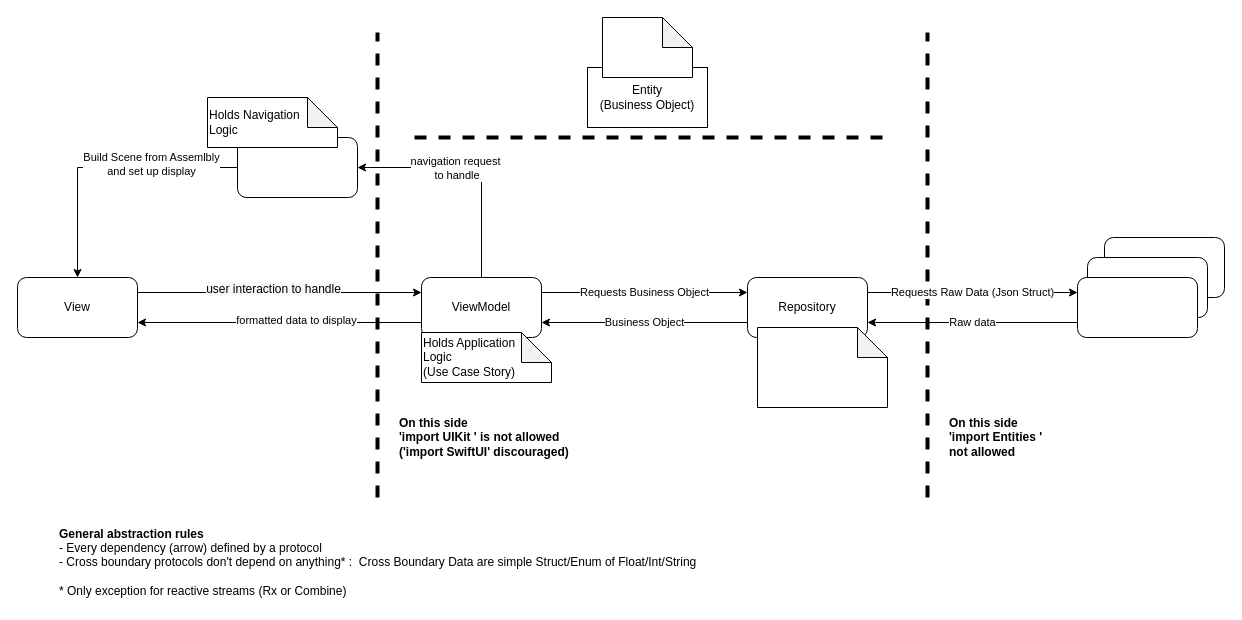
Image size: 1242x620. Some labels were removed from this diagram. The box of each missing label's shape, as (x1, y1, x2, y2) in pixels:
Aggregates data from multiple sources services to build BusinessObjects: (756, 326, 888, 408)
Coordinator: (236, 136, 358, 198)
DataSource: (1076, 276, 1198, 338)
Holds Business Logic: (602, 16, 692, 78)
